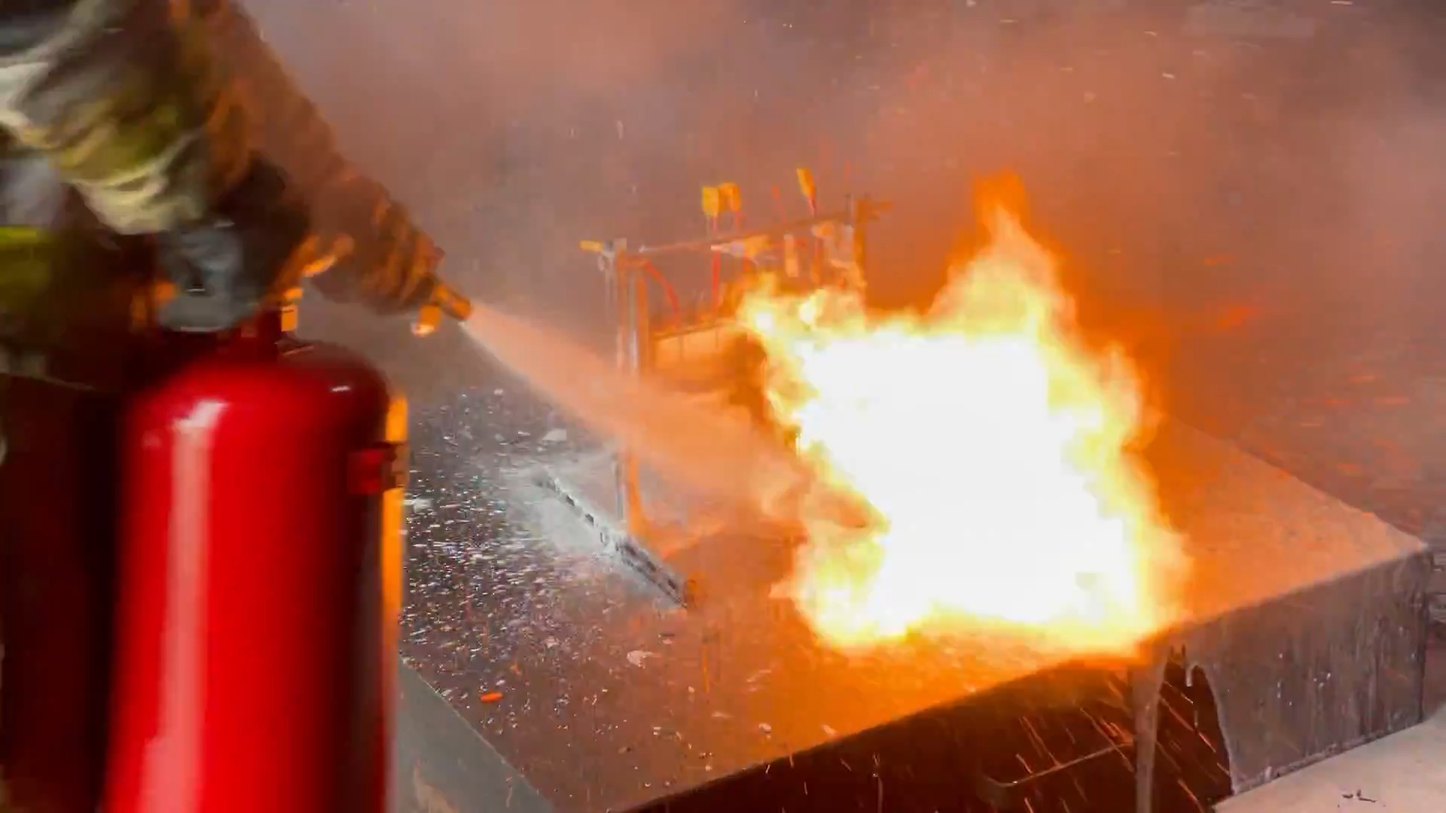fire: (717, 169, 1199, 668)
smoke: (474, 0, 1406, 300)
